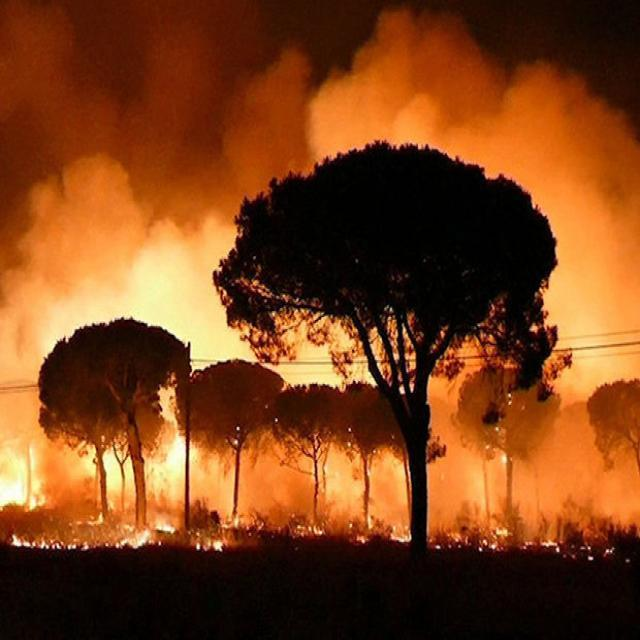Smoke: (304, 0, 639, 396), (0, 129, 331, 405)
